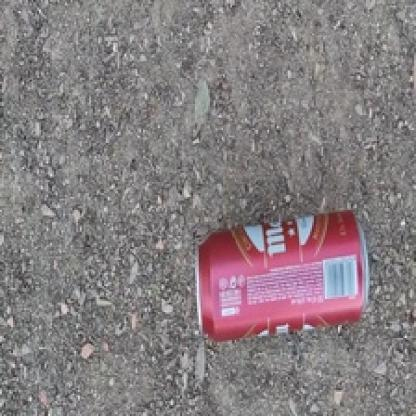Can: (195, 208, 370, 348)
